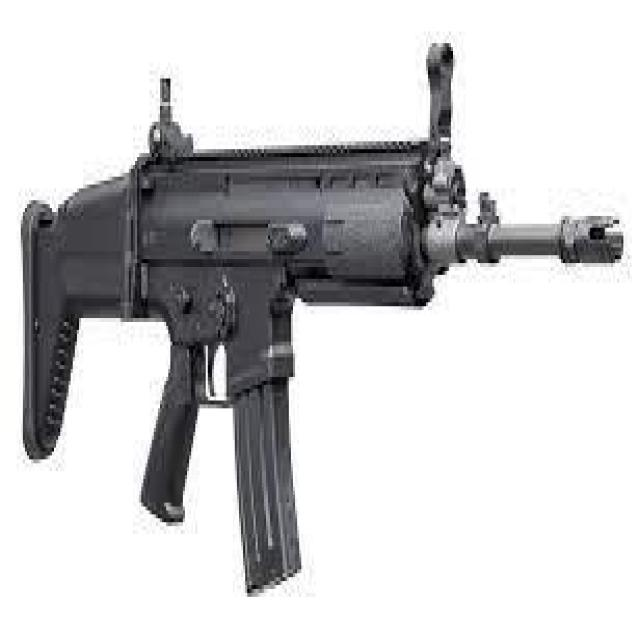Gun: (31, 49, 621, 599)
